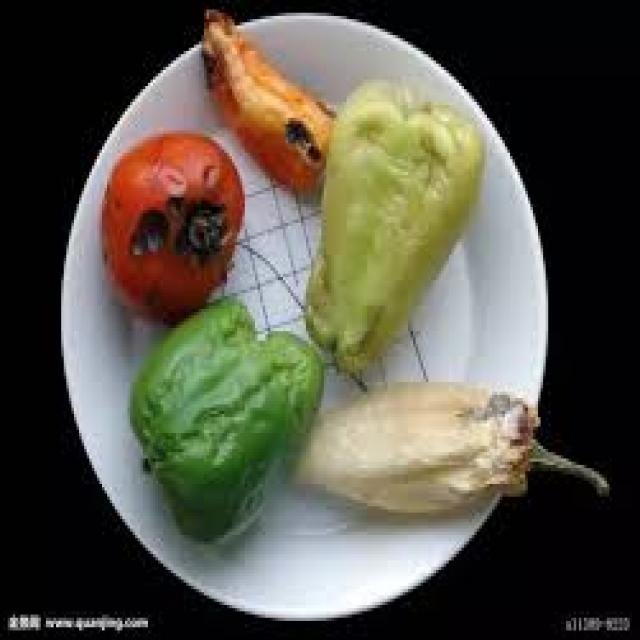organic waste: (301, 76, 484, 363), (128, 293, 322, 541), (286, 379, 610, 513), (100, 128, 242, 318), (199, 7, 336, 195)
